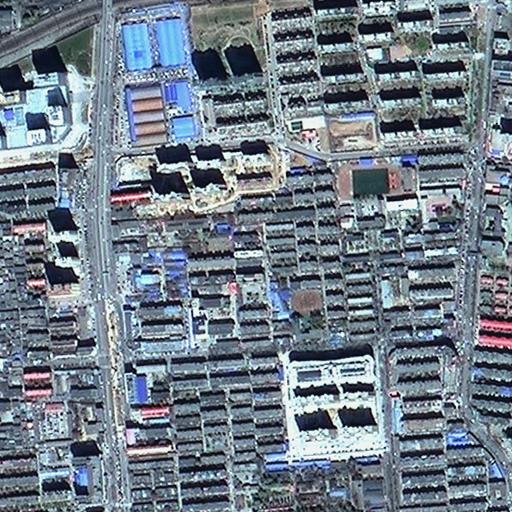school: (333, 155, 422, 234), (288, 286, 324, 342)
